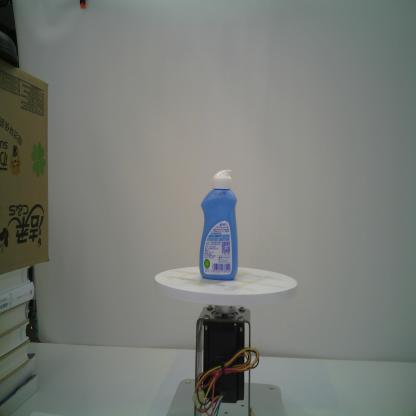Personal Hygiene: (198, 167, 238, 280)
